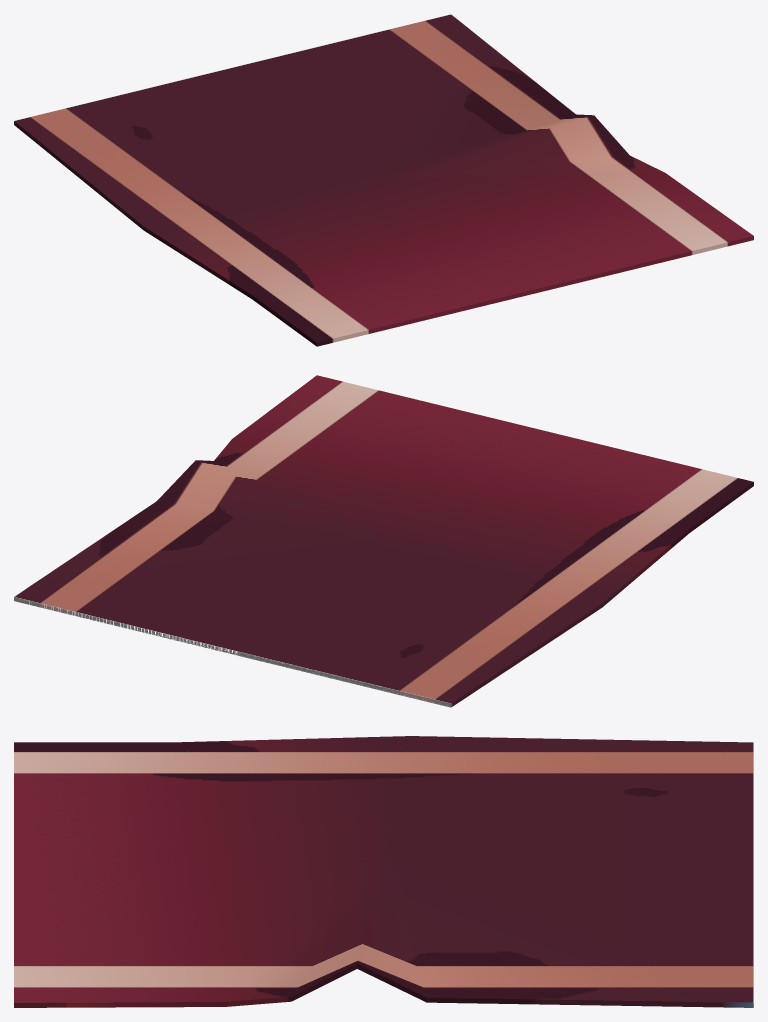
File: Carpet 01 Center 03.fbx
3 views of the same model, one above another, from view 1: azimuth 30°, elevation 25°; view 2: azimuth 150°, elevation 25°; view 3: azimuth 270°, elevation 25° (orthographic). The views are drawn at different scales.
Parts seen in each view (by area): view 1: Carpet 01 Center 03.001; view 2: Carpet 01 Center 03.001; view 3: Carpet 01 Center 03.001.
Part boxes in pixels (bbox=[...]): Carpet 01 Center 03.001: bbox=[14, 14, 753, 346]; Carpet 01 Center 03.001: bbox=[14, 375, 753, 707]; Carpet 01 Center 03.001: bbox=[14, 736, 753, 1007].
Bounding box in the file's own units: 171 × 9.74 × 200.
